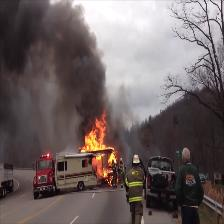fire: (85, 118, 117, 167)
smoke: (2, 2, 90, 86), (5, 88, 77, 151)
